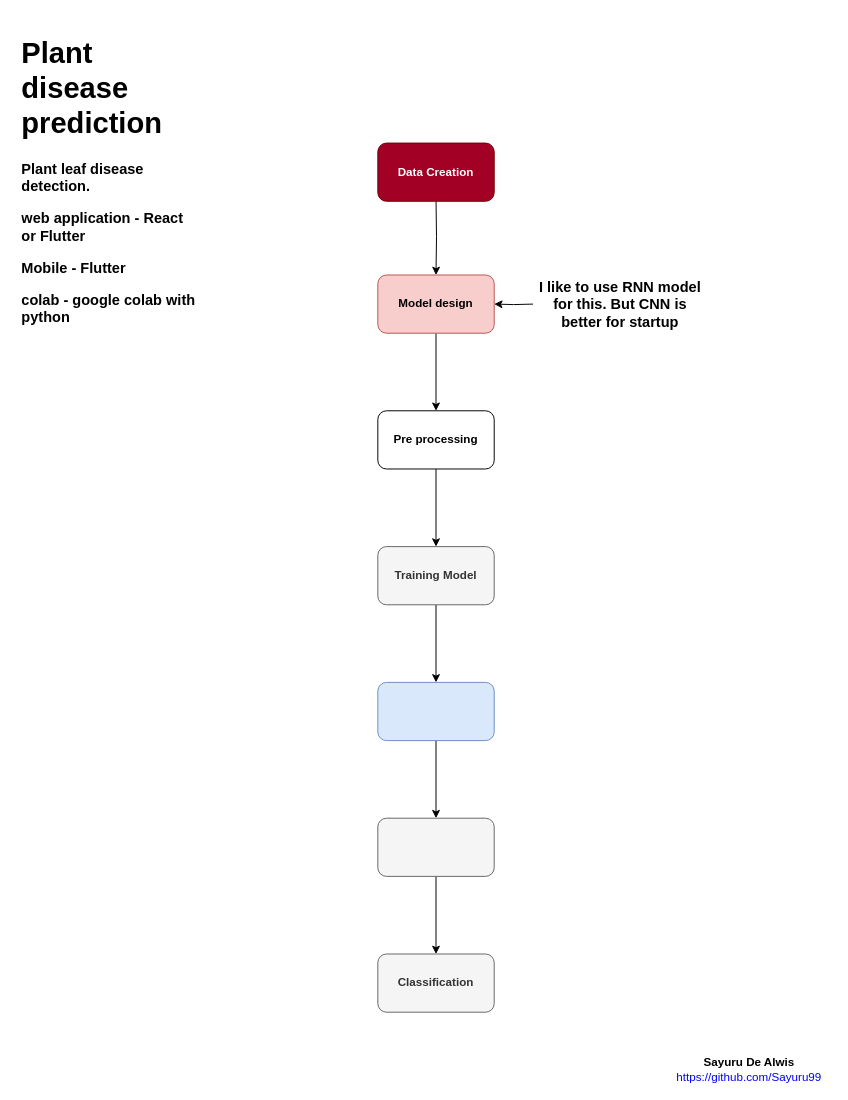
The diagram is 848 pixels wide and 1100 high, and some of its shapes have lost their labels. Each missing label, with the centre of its shape:
Model Test: (435,711)
Pre process the images: (435,846)
